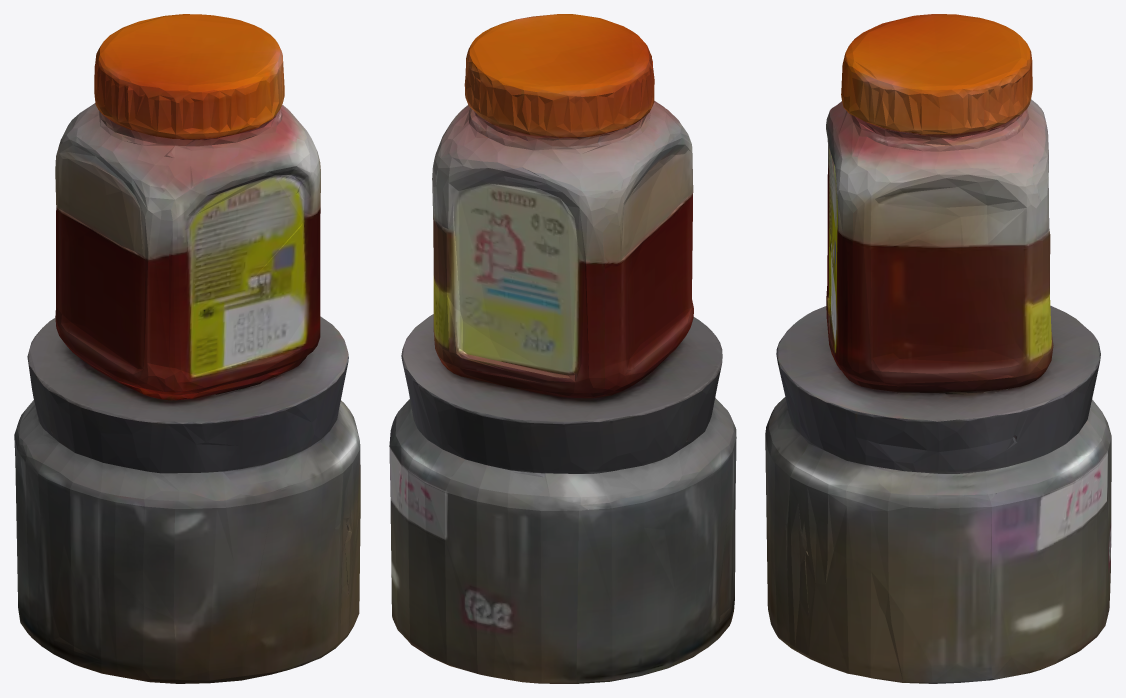
3 views of the same model, side by side, from view 1: azimuth 30°, elevation 25°; view 2: azimuth 150°, elevation 25°; view 3: azimuth 270°, elevation 25° (orthographic).
Parts seen in each view (by area): view 1: world; view 2: world; view 3: world.
Part boxes in pixels (<box>): world: <box>14,14,360,683</box>; world: <box>389,14,736,683</box>; world: <box>765,14,1111,683</box>.
Bounding box in the file's own units: 0.5525 × 0.9982 × 0.5542.
1 material, 1 textured.
